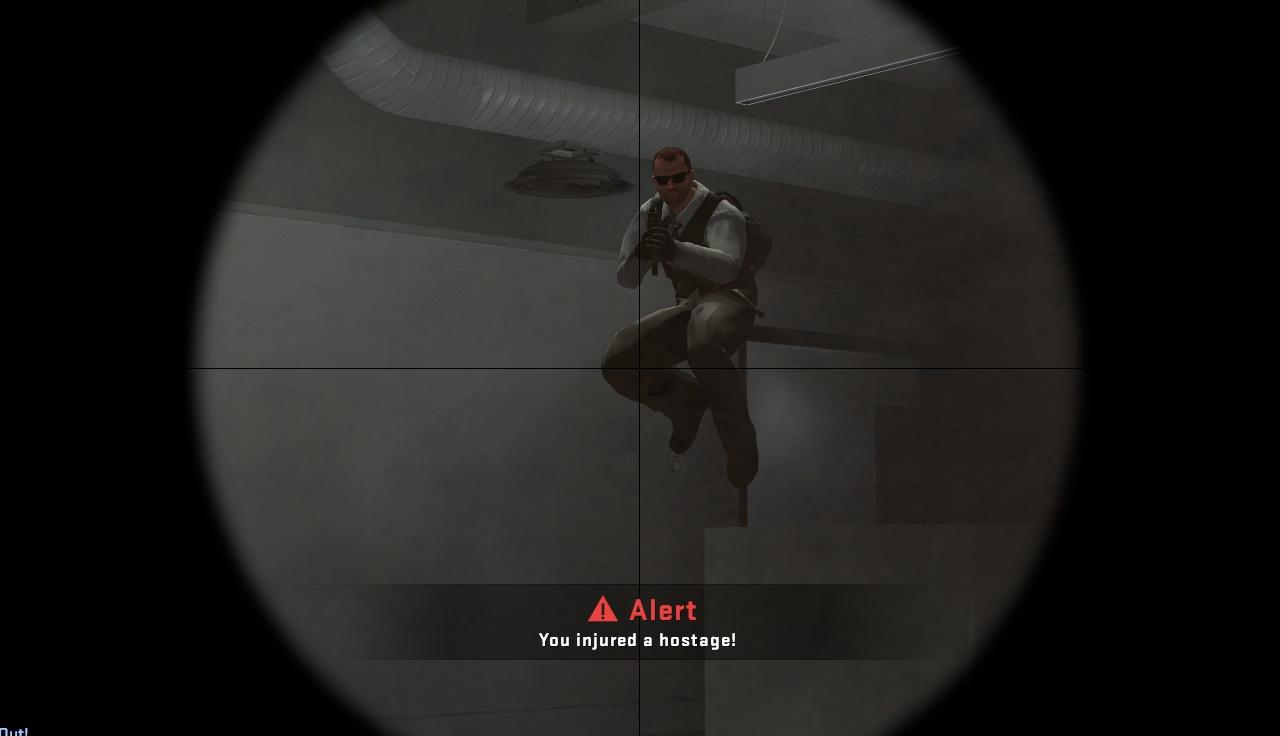tt: (622, 146, 753, 456)
tthead: (652, 147, 693, 206)
